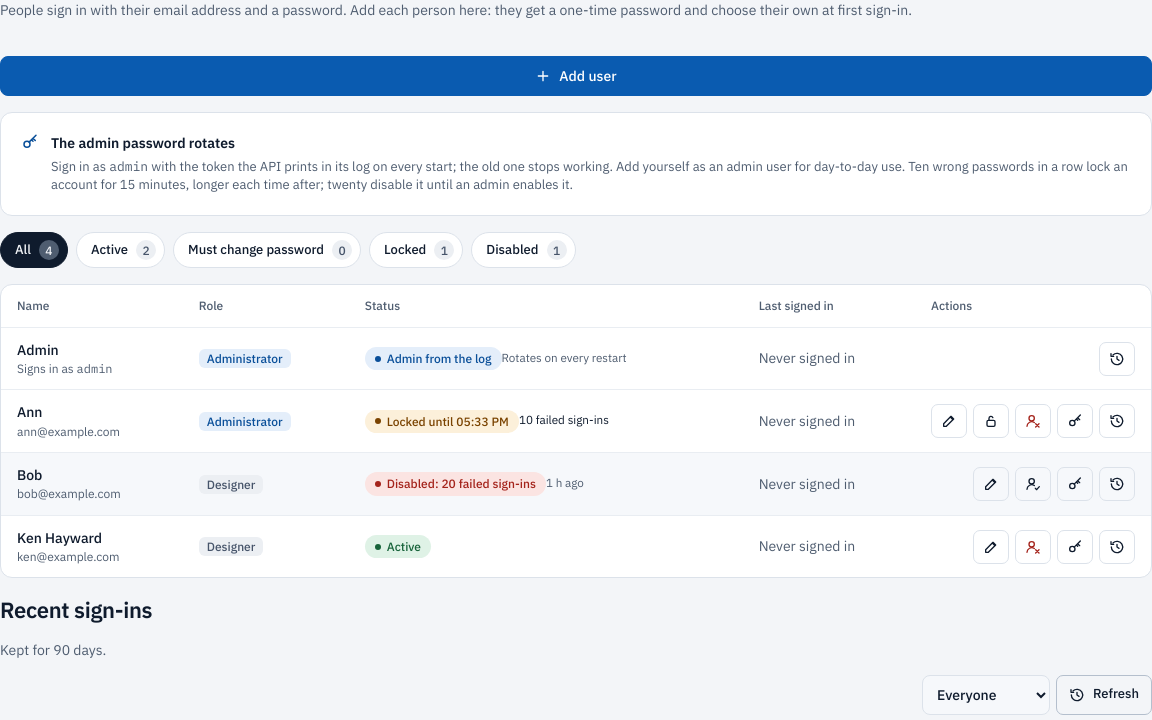
Scenario: AccessPage › edits name, email and role, sending only what changed
Click the button named "Edit Ken Hayward" at (991, 547), box [973,530,1009,564]
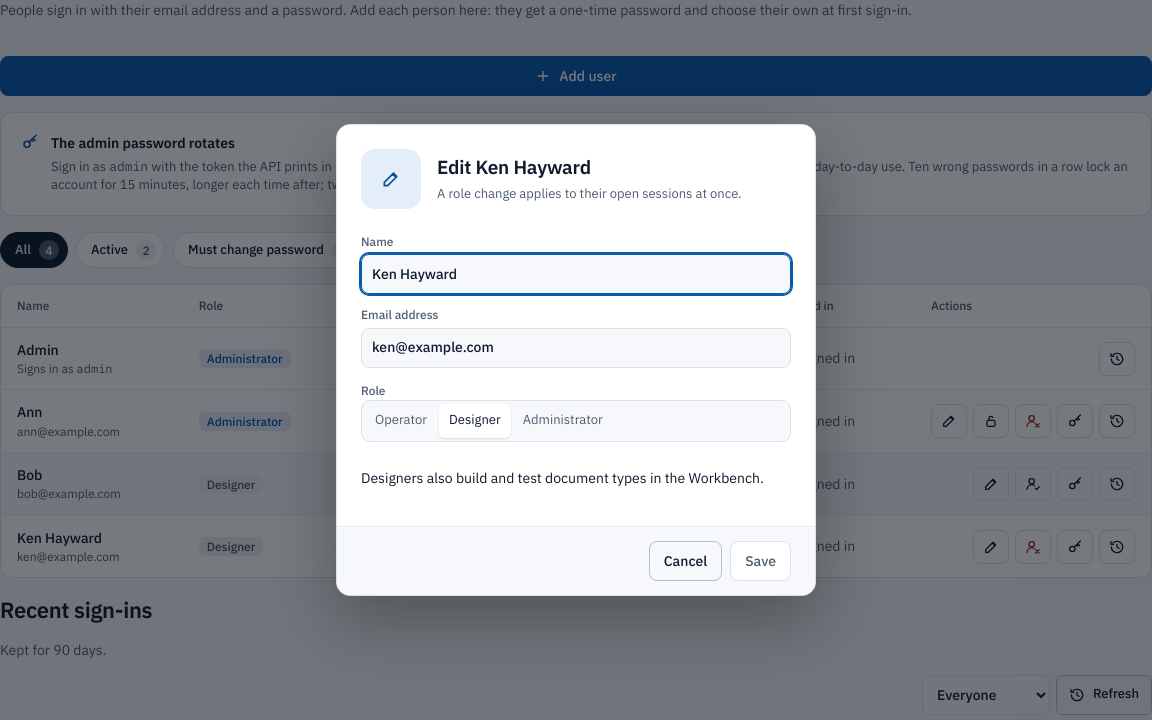
expect the field labelled "Email address" holds "ken@example.com": met
Replace the text in the field labelled "Email address" with "ken@new.example" at (576, 348), box [361,328,791,368]
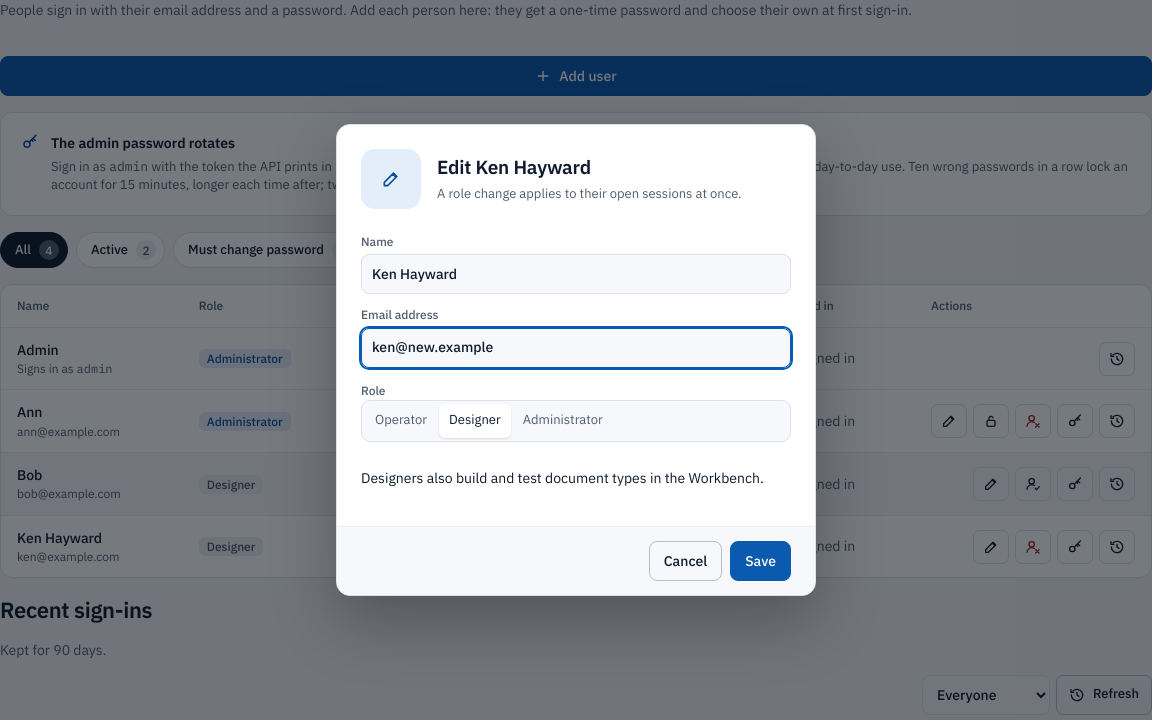
Click the button "Save" at (761, 561), box [730,541,791,581]
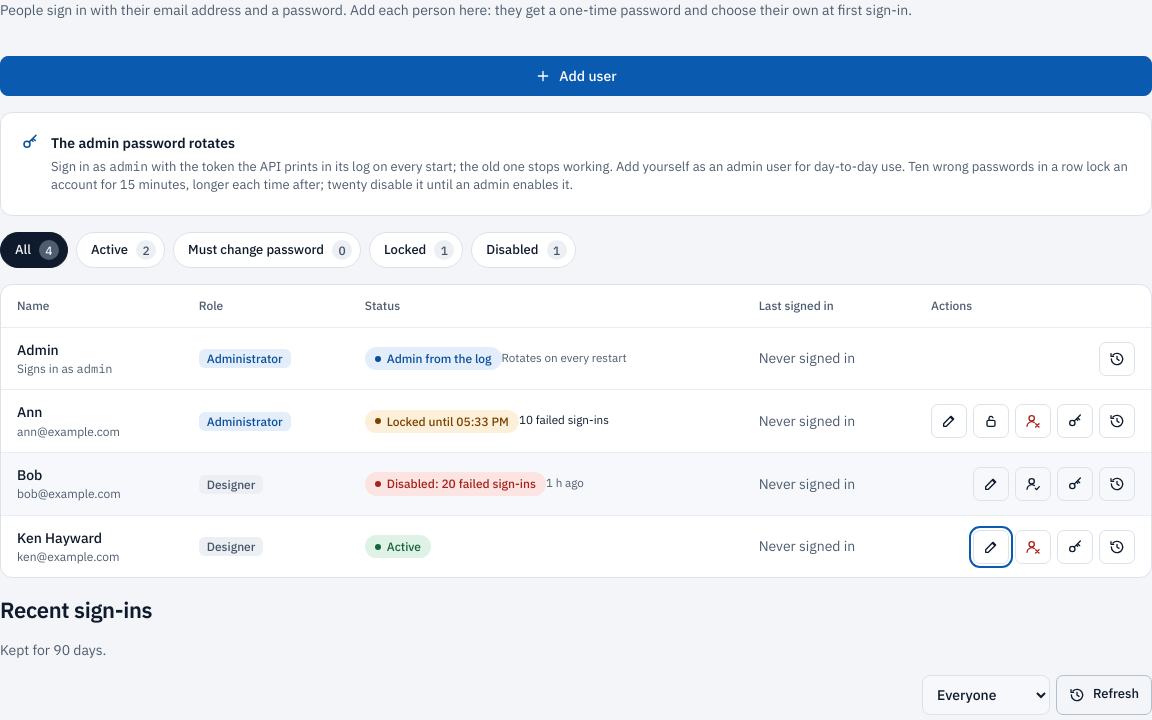
expect the dialog is gone: met
